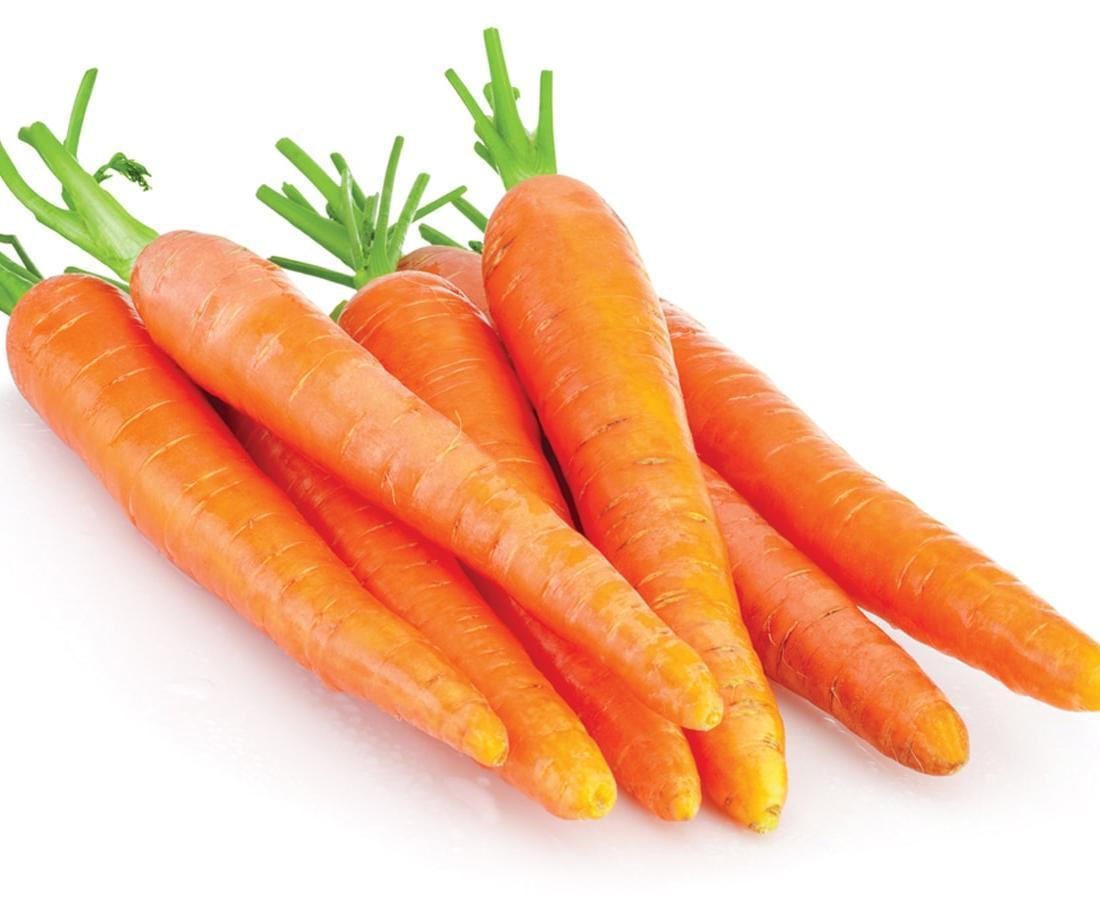carrot: (13, 151, 1100, 816), (129, 224, 787, 734)
